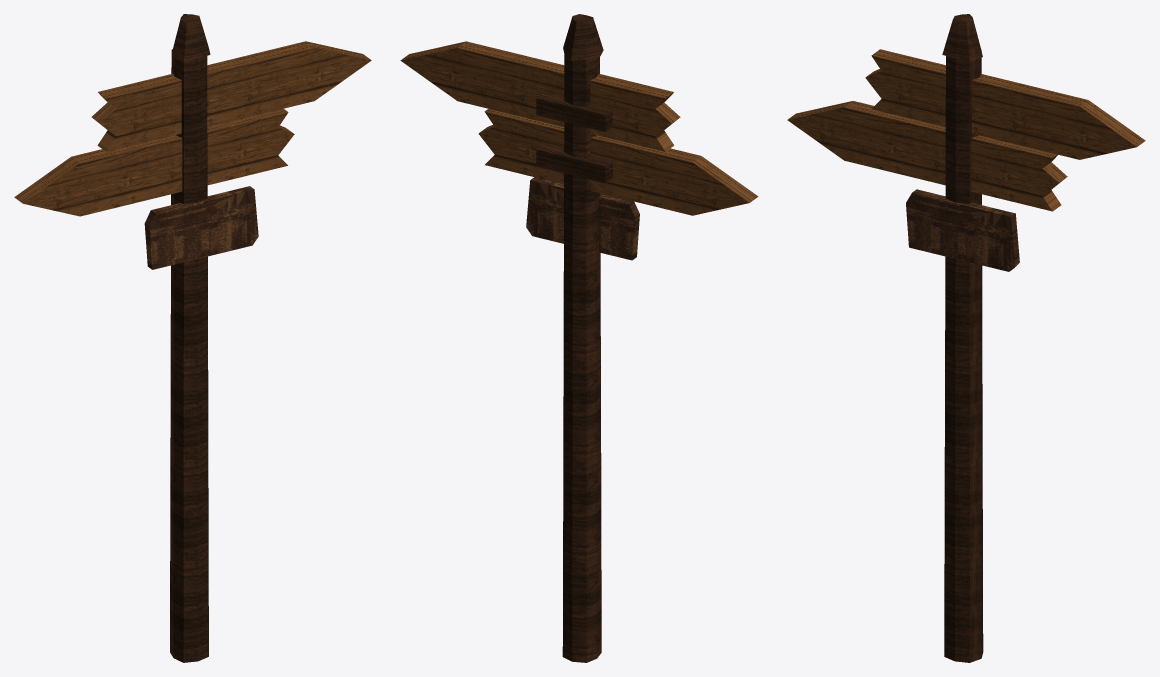
Rendered from sign.glb.
3 renders of one model, left to right at view 1: azimuth 30°, elevation 25°; view 2: azimuth 150°, elevation 25°; view 3: azimuth 330°, elevation 25°, orthographic.
Parts seen in each view (by area): view 1: hand_hewn_darkwood_post; view 2: hand_hewn_darkwood_post; view 3: hand_hewn_darkwood_post.
Boxes of the visible parts, x1,y1,x2,y2 form: hand_hewn_darkwood_post: (14, 14, 371, 662); hand_hewn_darkwood_post: (400, 14, 758, 662); hand_hewn_darkwood_post: (787, 14, 1145, 662).
Size of the model in its own units: 1.71 by 2.98 by 0.1705.
Materials: 3 (3 with a texture image).
